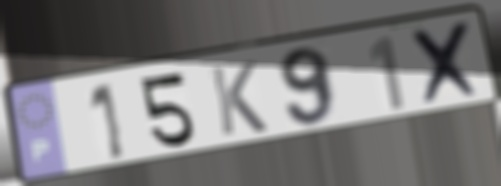1: (86, 80, 128, 162), (367, 33, 406, 113)
5: (136, 72, 198, 150)
9: (274, 44, 338, 130)
K: (206, 58, 271, 139)
X: (407, 17, 488, 109)
